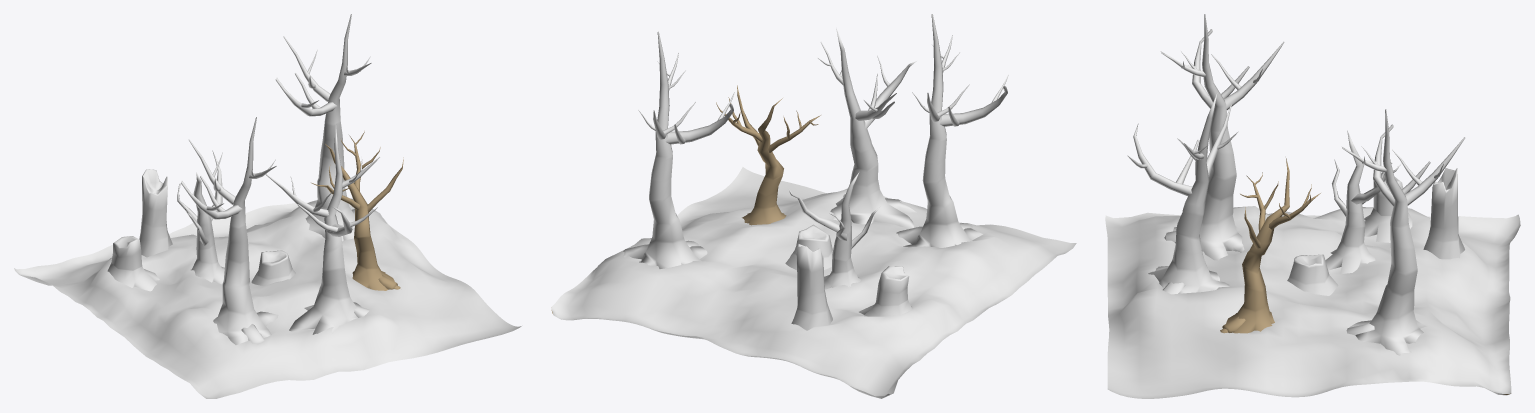
File: Tree_resource.fbx
3 renders of one model, left to right at view 1: azimuth 30°, elevation 25°; view 2: azimuth 150°, elevation 25°; view 3: azimuth 270°, elevation 25°, orthographic. The views are drawn at different scales.
Visible parts, largest first — view 1: Tree; view 2: Tree; view 3: Tree.
Boxes of the visible parts, x1,y1,x2,y2 form: Tree: [14, 14, 521, 398]; Tree: [551, 14, 1076, 398]; Tree: [1105, 14, 1520, 398].
Bounding box in the file's own units: 207 × 146 × 206.
